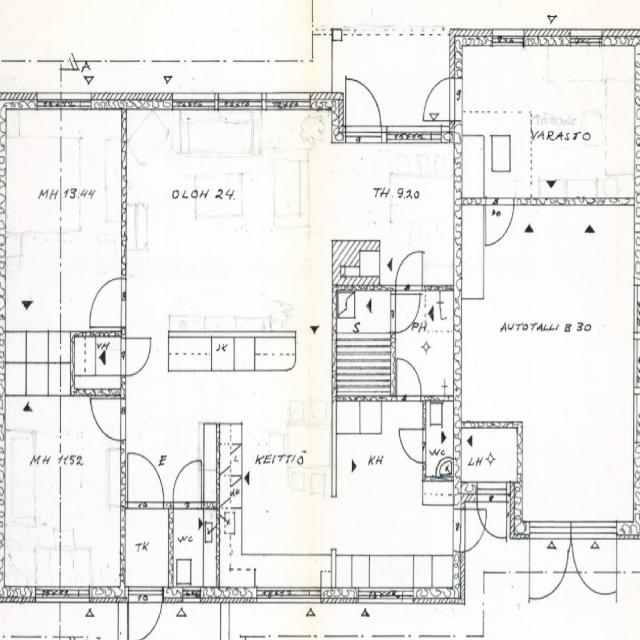door: (573, 522, 617, 603), (529, 522, 573, 603), (346, 74, 381, 142), (127, 451, 163, 508), (87, 278, 125, 327), (477, 482, 507, 544), (420, 78, 462, 121), (128, 587, 162, 640), (453, 509, 494, 551), (92, 399, 125, 440), (486, 198, 513, 245), (174, 463, 201, 509), (396, 247, 422, 291), (390, 294, 420, 332), (120, 338, 150, 373), (397, 361, 421, 401), (400, 429, 426, 463)
